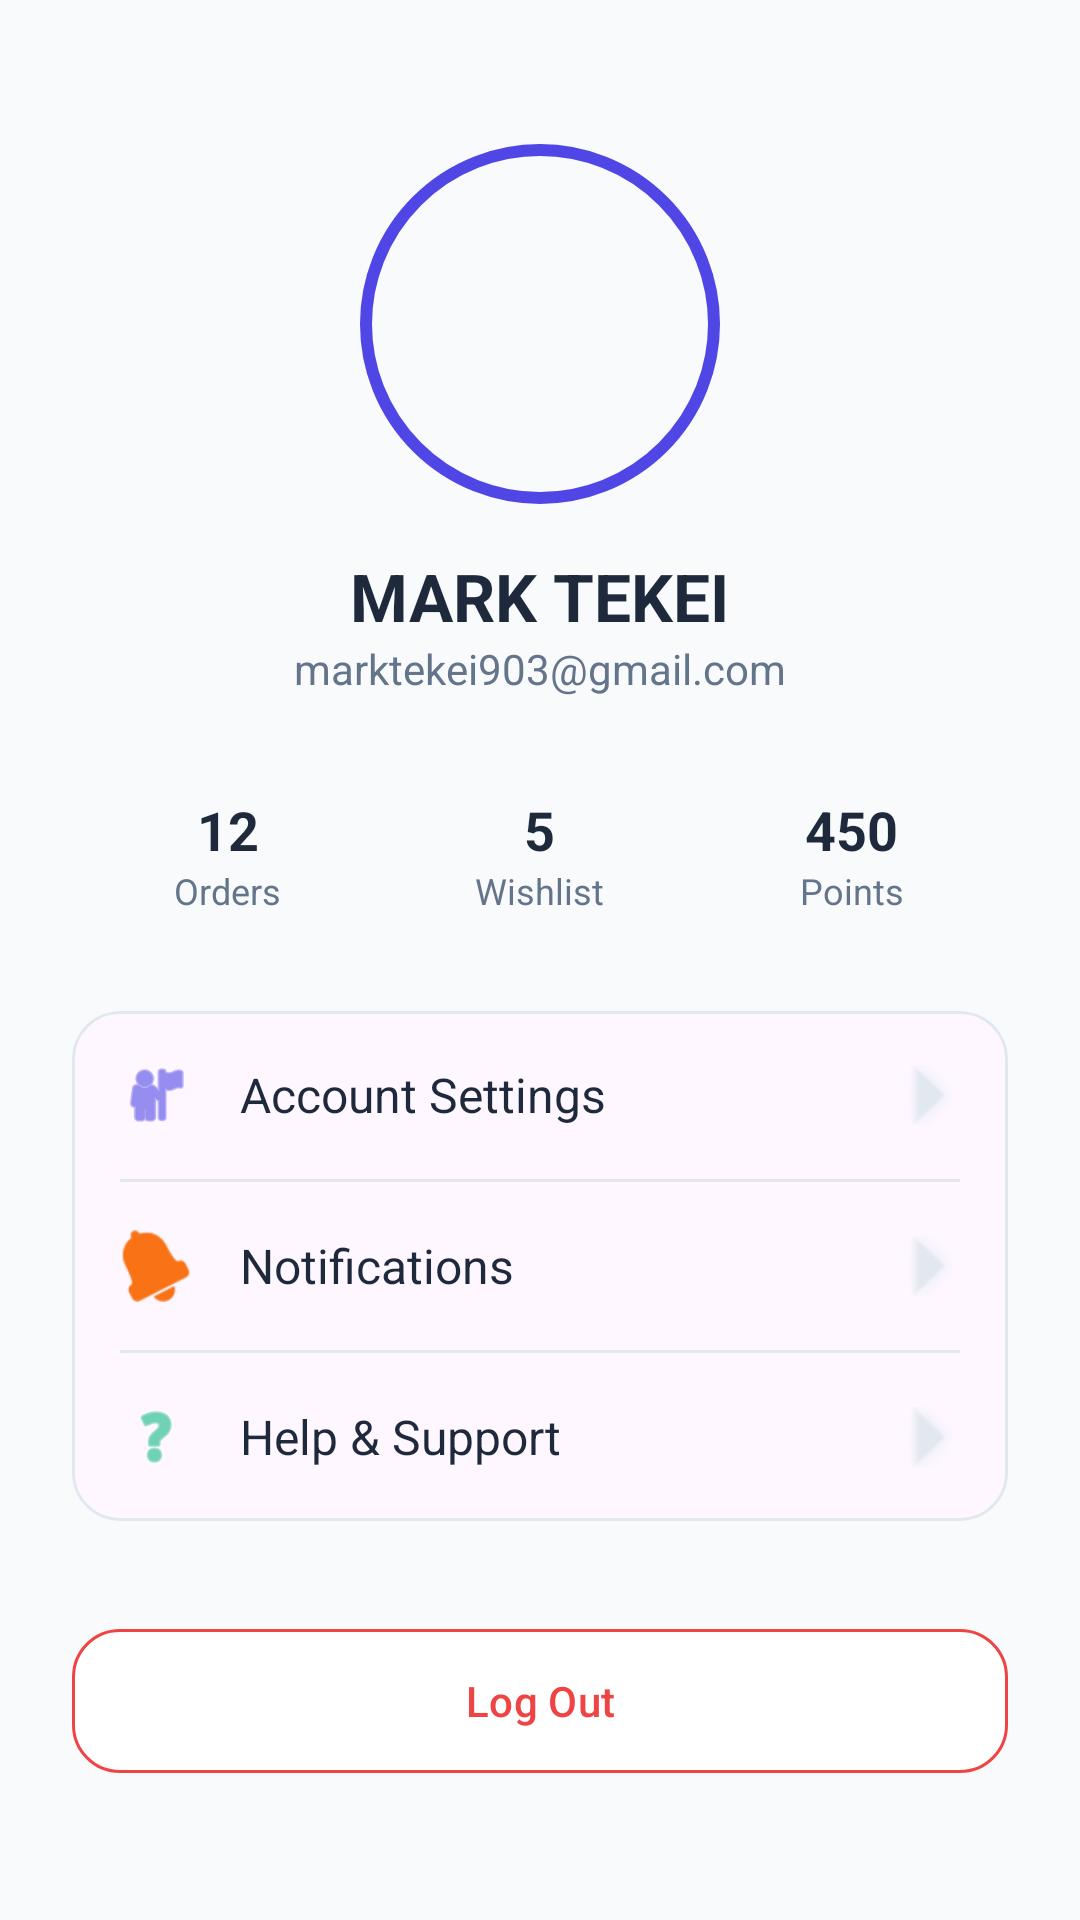

Where to tap for icons on this 1080 × 1920 app screen, as point (x, y):
popup reminder: point (156, 1266)
